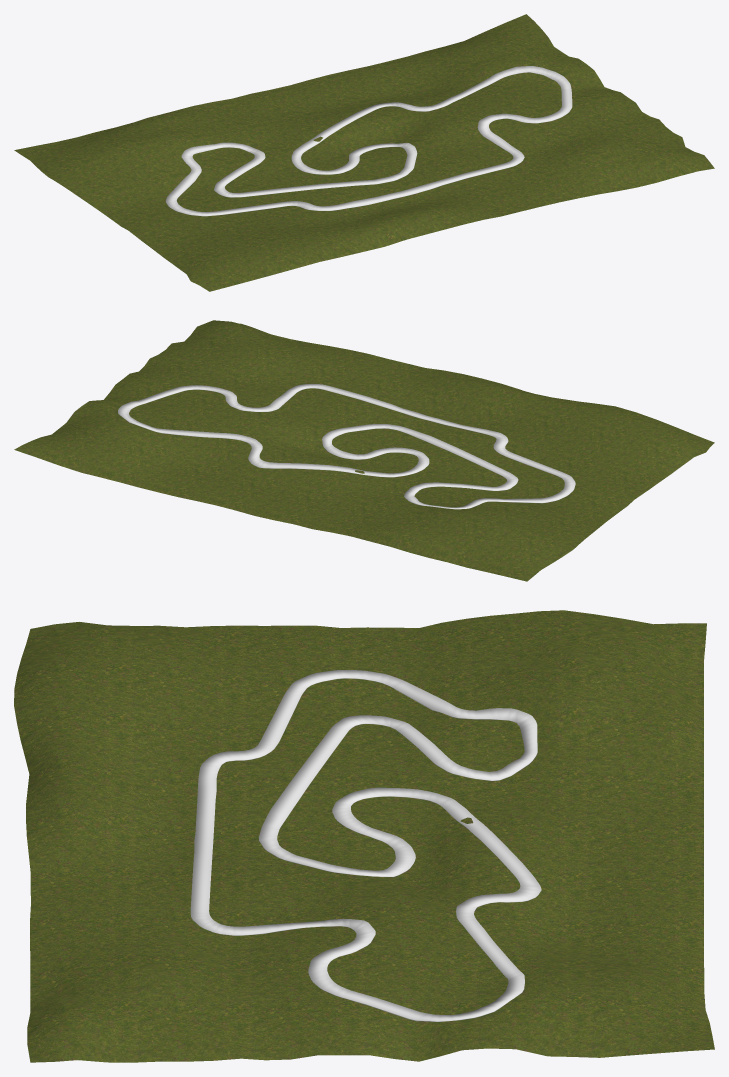
Rendered from pistaHELPMEEEE (2).fbx.
3 views of the same model, one above another, from view 1: azimuth 30°, elevation 25°; view 2: azimuth 150°, elevation 25°; view 3: azimuth 270°, elevation 25° (orthographic). The views are drawn at different scales.
Parts seen in each view (by area): view 1: Plane, Pista; view 2: Plane, Pista; view 3: Plane, Pista.
Boxes of the visible parts, x1,y1,x2,y2 form: Plane: (14,14,714,291); Pista: (165,66,572,216); Plane: (14,320,714,581); Pista: (118,384,575,509); Plane: (14,610,714,1062); Pista: (190,670,541,1021).
Size of the model in its own units: 48874 by 1415 by 32379.
3 materials, 1 textured.
